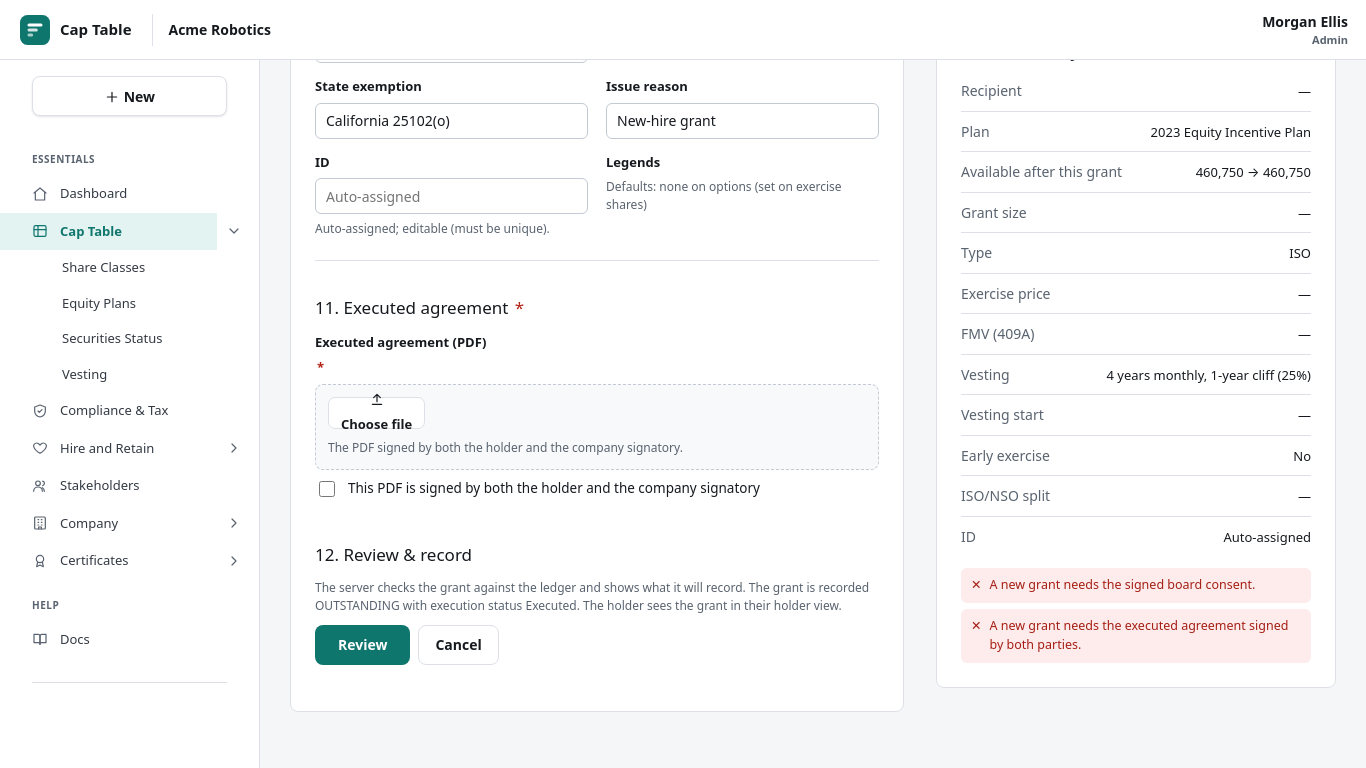
Scenario: record options › checks the required answers before anything is sent
(page scrolled)
Click the button "Review".
click(363, 645)  # box [315,625,410,665]
(page scrolled)
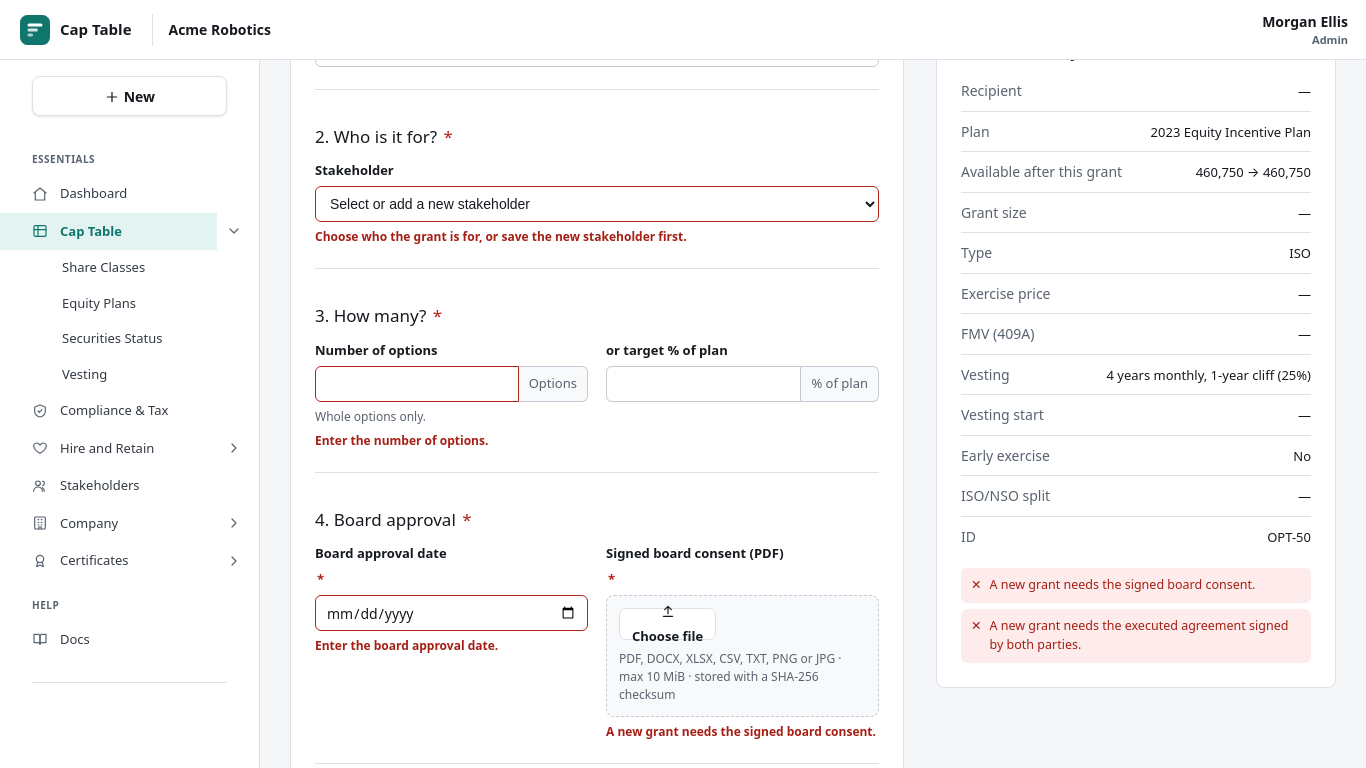
Expected: the text "Enter the number of options." is shown, [315,432,488,449]
Expected: the text "Enter the board approval date." is shown, [315,637,498,654]
Expected: the text "A new grant needs the signed board consent." is shown, [606,723,879,741]
Type "40000.5" into the field labelled "Number of options".
click(417, 384); type("40000.5")  # box [315,366,519,402]
(page scrolled)
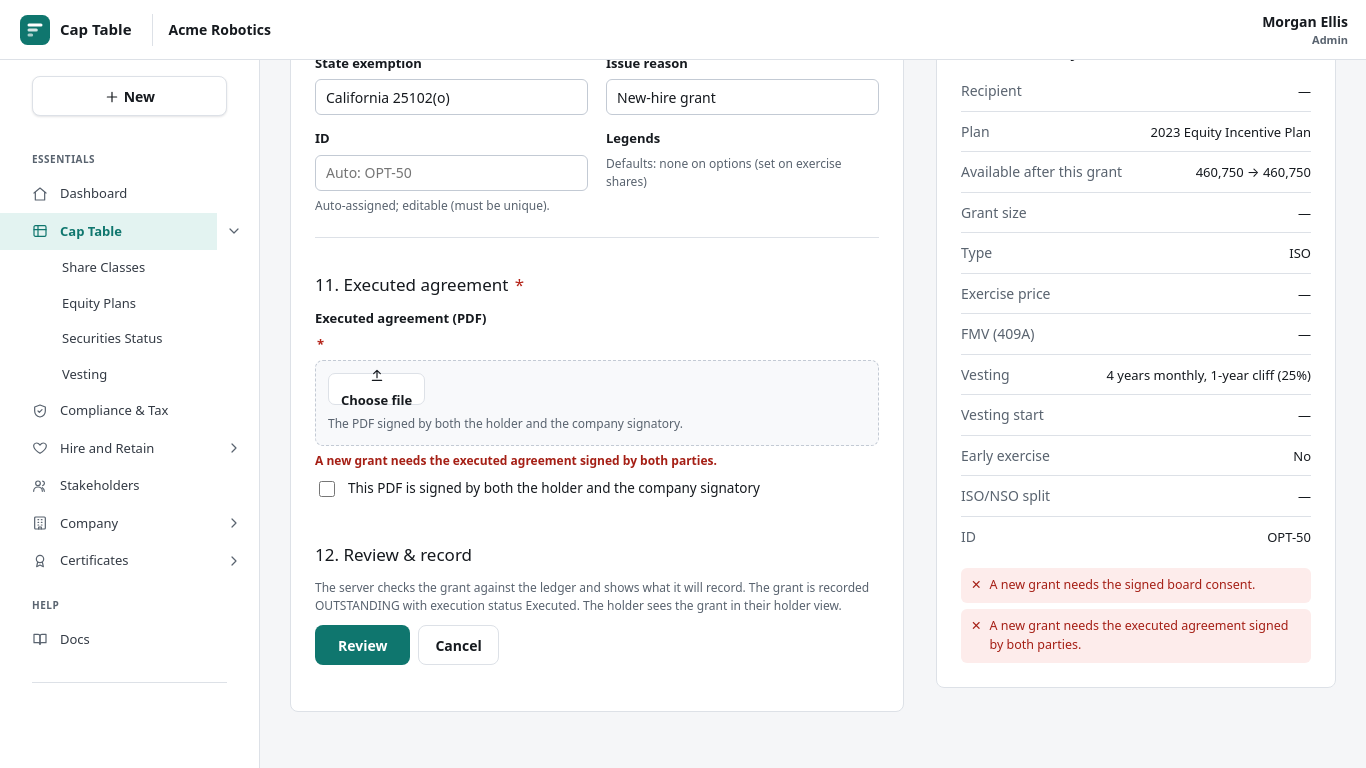
Click the button "Review".
click(363, 645)  # box [315,625,410,665]
(page scrolled)
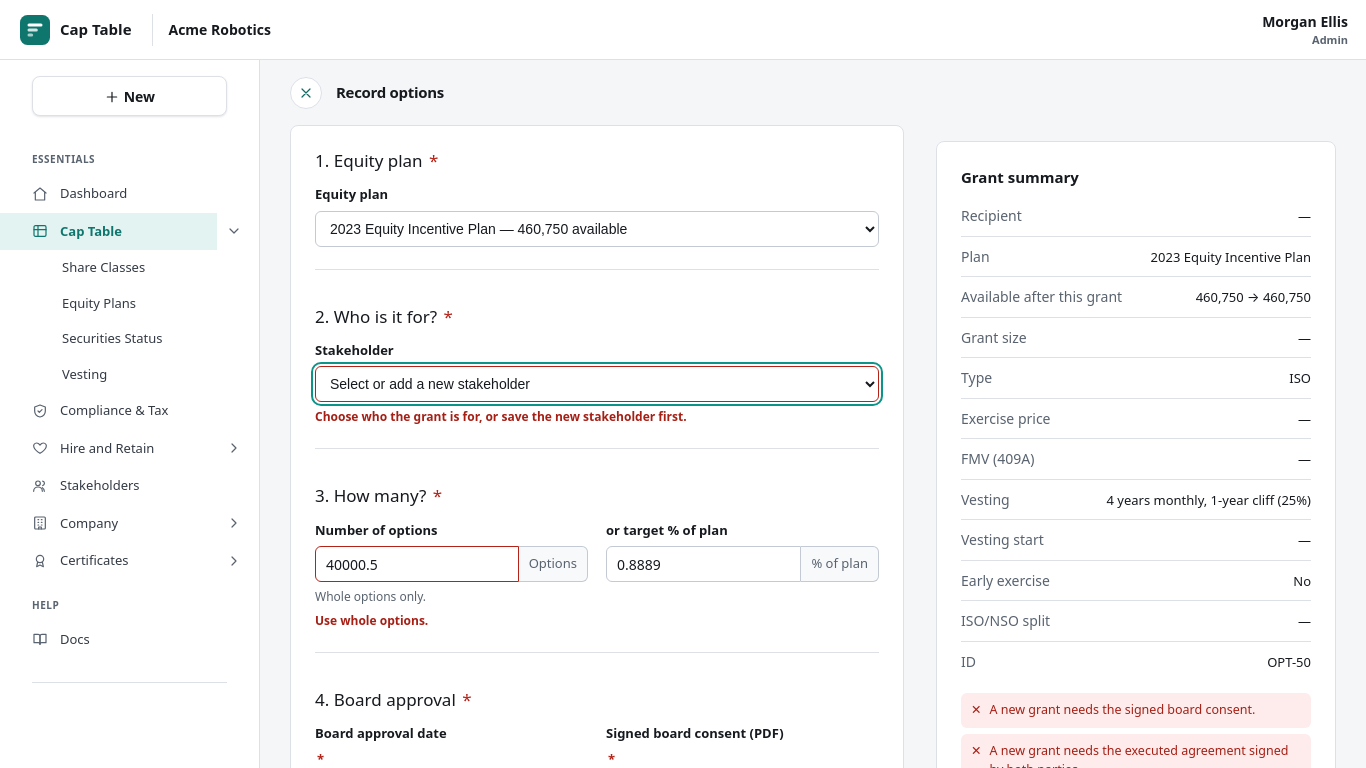
Expected: the text "Use whole options." is shown, [315,612,428,629]
